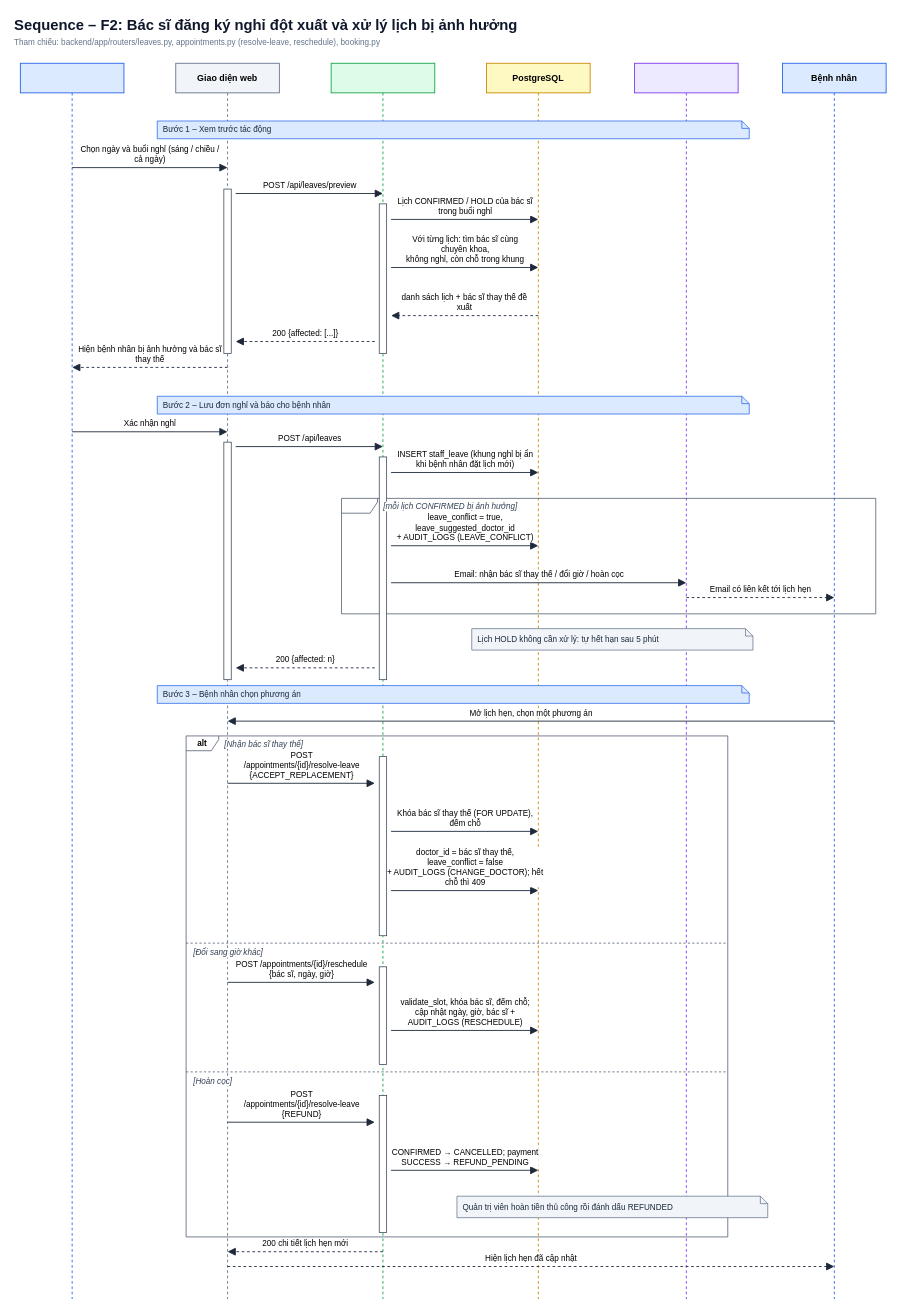
Some shapes in this 899 by 1312 pixel diagram are drawn without their labels. Here are the shapes that lost their labels. From the top down, the box of each, then its label:
(341, 498, 876, 614): loop
(20, 62, 124, 1299): Bác sĩ
(330, 62, 435, 1299): API FastAPI
(634, 62, 738, 1299): Email (SMTP)
